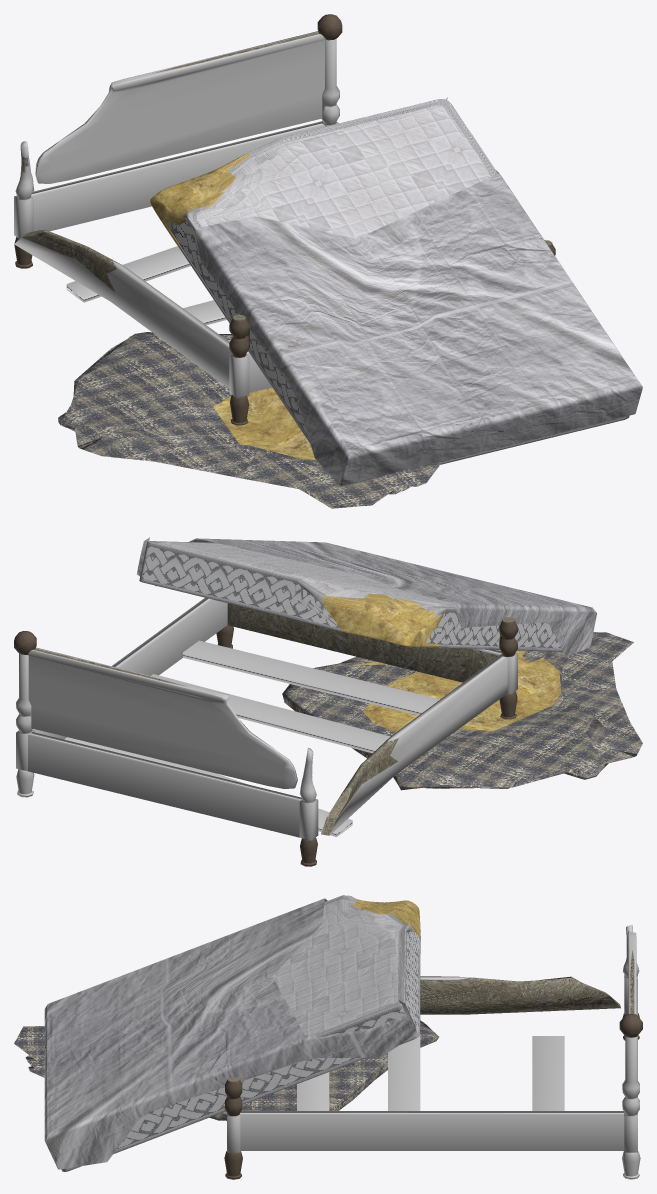
The model's file is BedFullBlanketDestroy_A.fbx.
3 renders of one model, top to bottom at view 1: azimuth 30°, elevation 25°; view 2: azimuth 150°, elevation 25°; view 3: azimuth 270°, elevation 25°, orthographic. The views are drawn at different scales.
Parts seen in each view (by area): view 1: BedAFullBlanketDestroy_A; view 2: BedAFullBlanketDestroy_A; view 3: BedAFullBlanketDestroy_A.
Part boxes in pixels (x1,y1,x2,y2): BedAFullBlanketDestroy_A: (14,14,642,508); BedAFullBlanketDestroy_A: (14,537,642,866); BedAFullBlanketDestroy_A: (14,895,642,1179).
Size of the model in its own units: 335 by 130 by 425.
